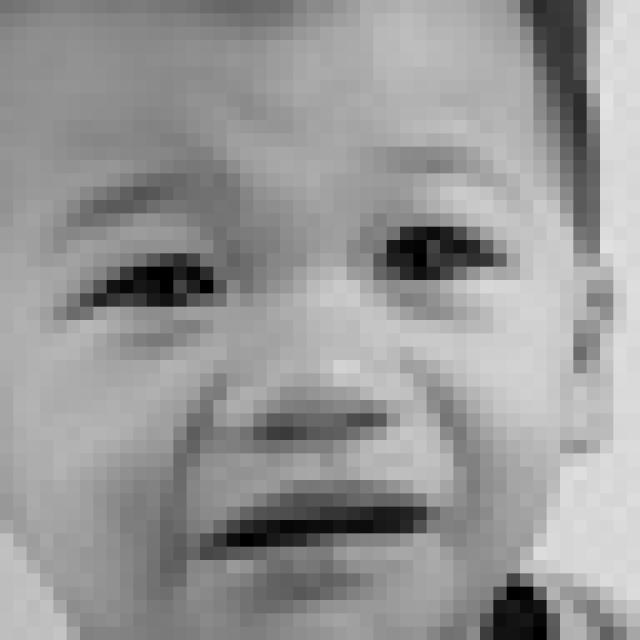sad: (33, 134, 541, 607)
